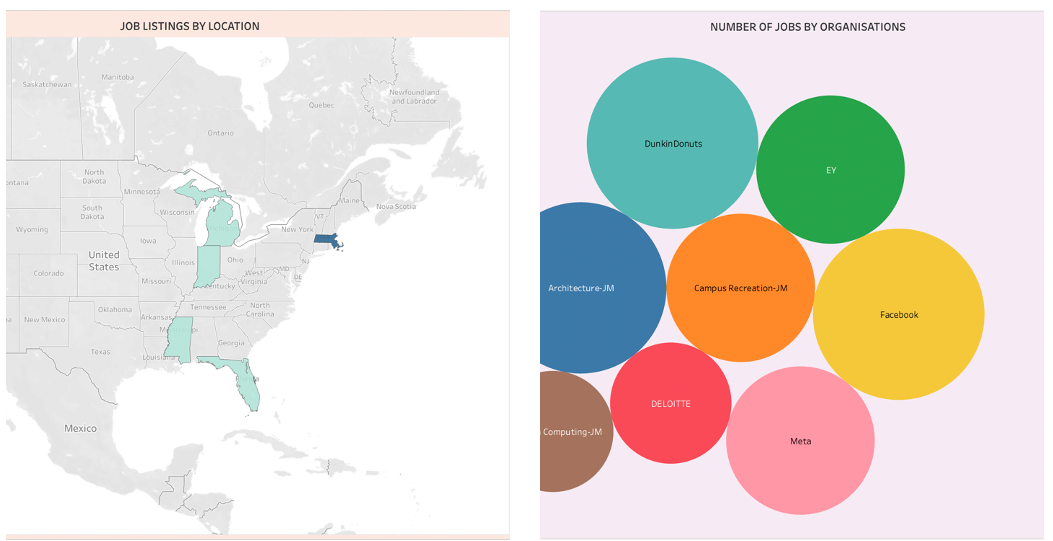

Layout of this report page (visuals, bound fields, positions):
{"tool":"tableau","page":{"name":"Dashboard 1","canvas":[1024,768],"ordinal":0},"visuals":[{"type":"title","box":[8,8,1008,35]},{"type":"worksheet","title":"Sheet 1","mark":"Pie","box":[8,43,483.7,128]},{"type":"worksheet","title":"Sheet 4","mark":"Circle","box":[491.7,43,364.3,361]},{"type":"legend","title":"Sheet 1","param":"[federated.0at0a6a0v536wk16bmjuu10f9n8s].[none:Category_Name:nk]","box":[856,43,160,22]},{"type":"legend","title":"Sheet 1","param":"[federated.0at0a6a0v536wk16bmjuu10f9n8s].[cnt:Login_ID:qk]","box":[856,65,160,22]},{"type":"legend","title":"Sheet 3","param":"[federated.0at0a6a0v536wk16bmjuu10f9n8s].[cnt:Placement_LocationID:qk]","box":[856,87,160,22]},{"type":"legend","title":"Sheet 4","param":"[federated.0at0a6a0v536wk16bmjuu10f9n8s].[none:Organization_Name:nk]","box":[856,109,160,22]},{"type":"worksheet","title":"Sheet 3","mark":"Multipolygon","box":[8,171,483.7,233]},{"type":"worksheet","title":"Sheet 2","mark":"Automatic","rows":["PlacementListingID","Student_ID (studentSkillset .csv)","Calculation_4677128984396996611"],"cols":["Skill_Name"],"box":[8,404,1008,356]}]}

Visuals, with their boxes on the page's 1024x768 design canvas (x1, y1, x2, y2). These are canvas units, not pixel positions in the 1053x541 screenshot, which may show the page scaled, cropped or inside an application window:
title: bbox=[8, 8, 1016, 43]
"Sheet 1" worksheet (Pie marks): bbox=[8, 43, 492, 171]
"Sheet 4" worksheet (Circle marks): bbox=[492, 43, 856, 404]
"Sheet 1" legend: bbox=[856, 43, 1016, 65]
"Sheet 1" legend: bbox=[856, 65, 1016, 87]
"Sheet 3" legend: bbox=[856, 87, 1016, 109]
"Sheet 4" legend: bbox=[856, 109, 1016, 131]
"Sheet 3" worksheet (Multipolygon marks): bbox=[8, 171, 492, 404]
"Sheet 2" worksheet: bbox=[8, 404, 1016, 760]
